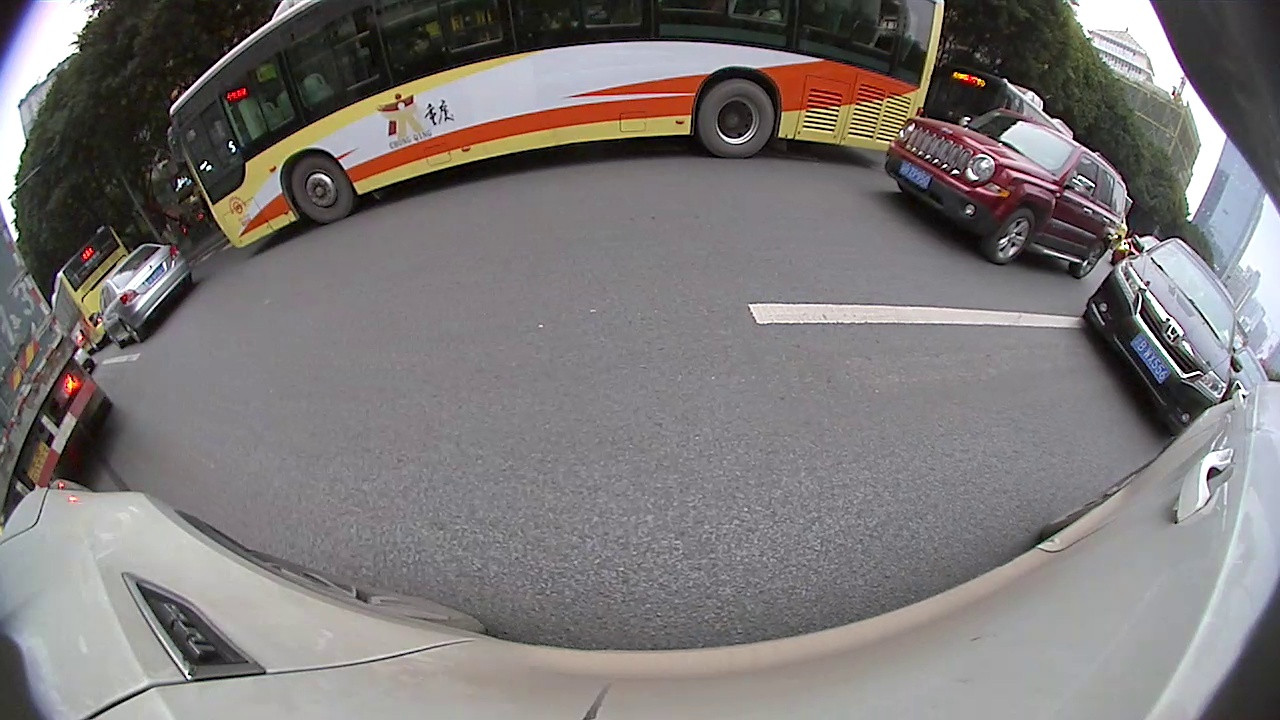bus: (169, 1, 947, 253), (930, 67, 1086, 140), (50, 224, 133, 350)
car: (883, 103, 1133, 278), (1079, 238, 1241, 434), (97, 239, 196, 349)
front: (289, 151, 356, 227), (983, 206, 1040, 268)
rear: (694, 77, 778, 163), (1070, 238, 1109, 281), (122, 320, 144, 345)
truck: (0, 212, 110, 540)
